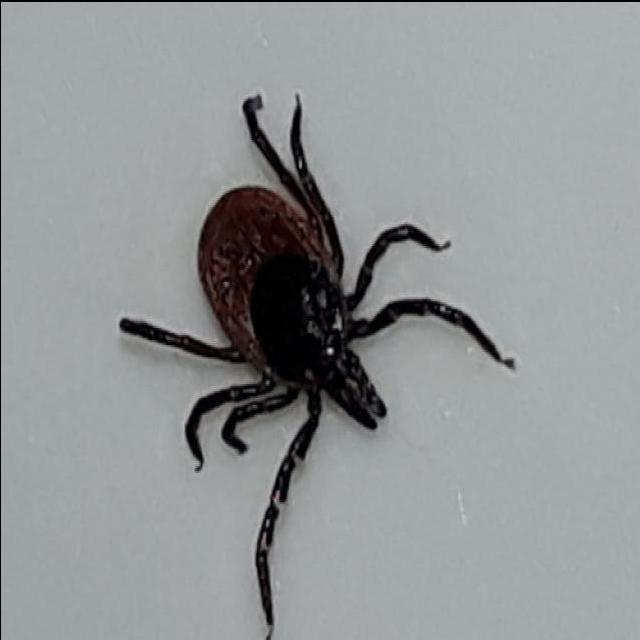Ixodes Ricinus-F: (119, 90, 513, 623)
